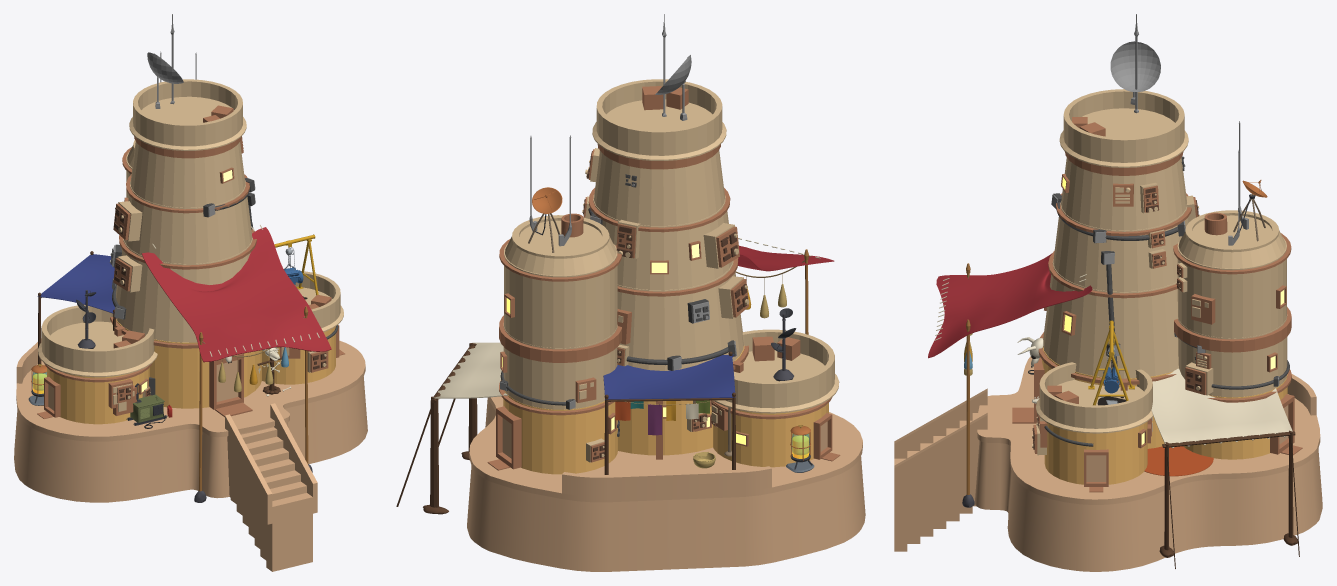
File: nomad_building_b07.fbx
The picture shows the model from 3 angles, left to right: view 1: azimuth 30°, elevation 25°; view 2: azimuth 150°, elevation 25°; view 3: azimuth 270°, elevation 25°; orthographic projection. The views are drawn at different scales.
Parts seen in each view (by area): view 1: NomadBuilding_B07; view 2: NomadBuilding_B07; view 3: NomadBuilding_B07.
Boxes of the visible parts, <box> form: NomadBuilding_B07: <box>14,14,367,571</box>; NomadBuilding_B07: <box>396,14,865,571</box>; NomadBuilding_B07: <box>894,14,1322,571</box>.
Bounding box in the file's own units: 2802 × 3743 × 2788.
